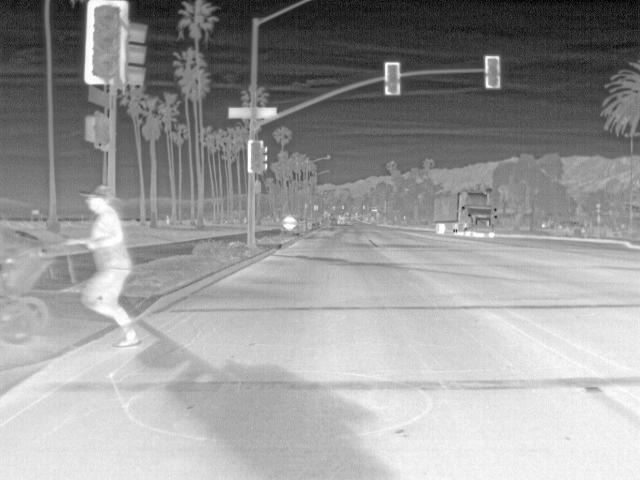person: (81, 183, 142, 350)
